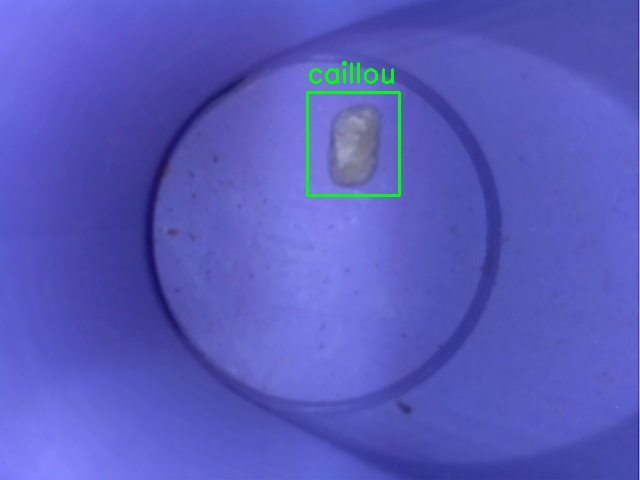caillou: (307, 92, 399, 195)
